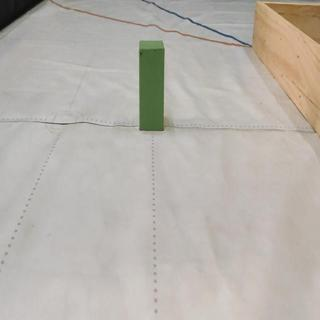greenbox: (137, 37, 165, 132)
